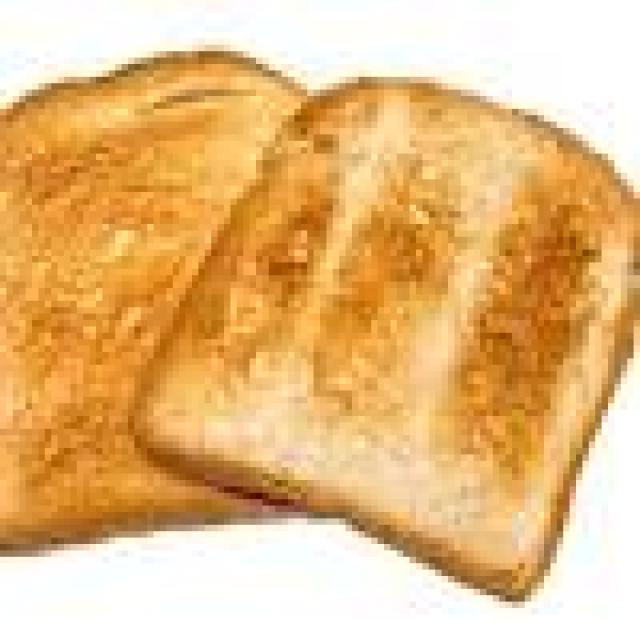Bread: (0, 51, 636, 597), (0, 54, 305, 546)
